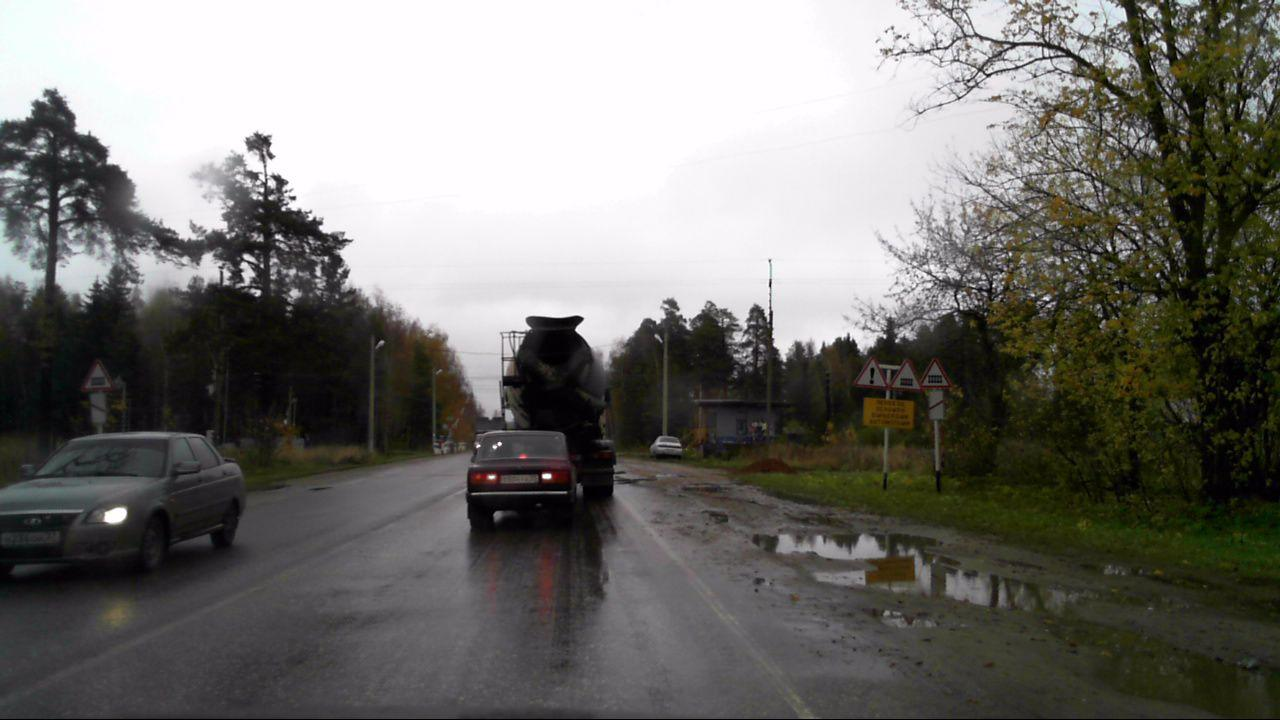1_1: (886, 356, 923, 392), (82, 357, 115, 393), (920, 355, 952, 388)
1_33: (853, 356, 888, 389)
1_4_3: (929, 390, 944, 419)
1_4_6: (89, 394, 106, 427)
